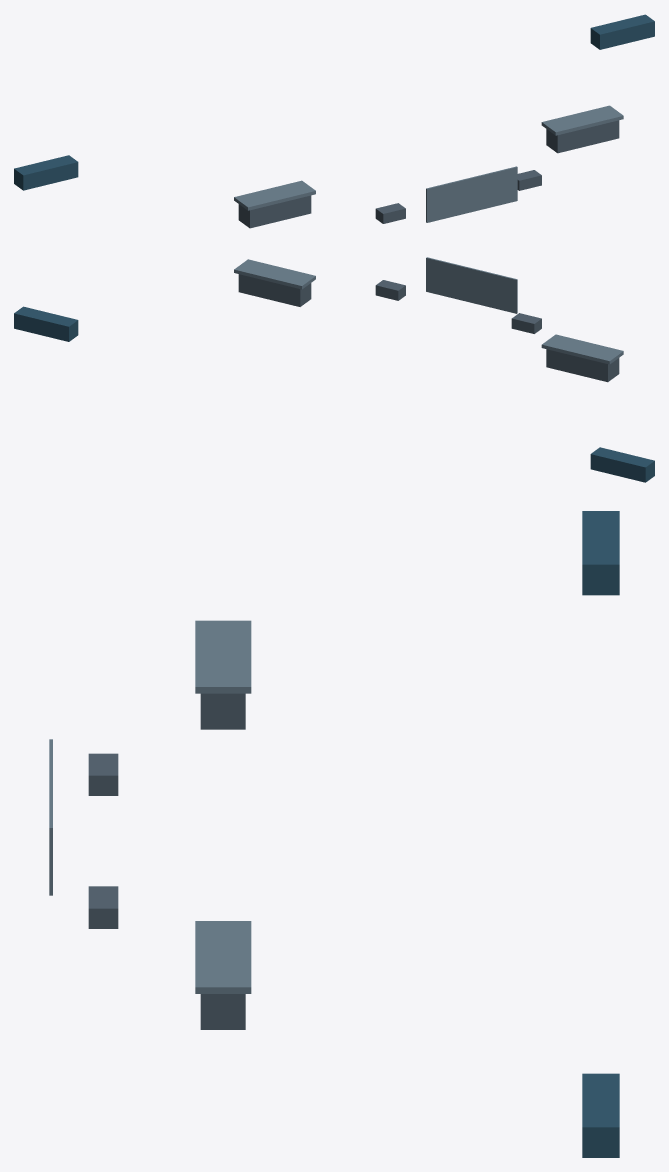
Rendered from stadium_modules-low.glb.
The picture shows the model from 3 angles, top to bottom: view 1: azimuth 30°, elevation 25°; view 2: azimuth 150°, elevation 25°; view 3: azimuth 270°, elevation 25°; orthographic projection. The views are drawn at different scales.
Parts seen in each view (by area): view 1: Backstop, Bullpen_-1, Bullpen_1, Dugout_-1, Dugout_1, DugoutRoof_1, DugoutRoof_-1, CameraWell_-1, CameraWell_1; view 2: Backstop, Bullpen_-1, Bullpen_1, Dugout_-1, Dugout_1, DugoutRoof_-1, DugoutRoof_1, CameraWell_-1, CameraWell_1; view 3: DugoutRoof_-1, DugoutRoof_1, Bullpen_-1, Bullpen_1, Dugout_-1, Dugout_1, CameraWell_1, CameraWell_-1.
Part boxes in pixels (bbox=[...]): Backstop: bbox=[426, 166, 517, 222]; Bullpen_-1: bbox=[14, 155, 78, 190]; Bullpen_1: bbox=[590, 14, 654, 49]; Dugout_-1: bbox=[238, 195, 311, 228]; Dugout_1: bbox=[546, 120, 619, 153]; DugoutRoof_1: bbox=[541, 105, 623, 135]; DugoutRoof_-1: bbox=[234, 180, 315, 210]; CameraWell_-1: bbox=[375, 203, 405, 223]; CameraWell_1: bbox=[517, 170, 541, 190]; Backstop: bbox=[426, 257, 517, 313]; Bullpen_-1: bbox=[590, 447, 654, 482]; Bullpen_1: bbox=[14, 306, 78, 341]; Dugout_-1: bbox=[546, 349, 619, 382]; Dugout_1: bbox=[238, 274, 311, 306]; DugoutRoof_-1: bbox=[541, 334, 623, 364]; DugoutRoof_1: bbox=[234, 259, 315, 289]; CameraWell_-1: bbox=[511, 313, 541, 333]; CameraWell_1: bbox=[375, 280, 405, 300]; DugoutRoof_-1: bbox=[195, 620, 251, 693]; DugoutRoof_1: bbox=[195, 921, 251, 993]; Bullpen_-1: bbox=[582, 511, 619, 595]; Bullpen_1: bbox=[582, 1073, 619, 1157]; Dugout_-1: bbox=[200, 693, 245, 729]; Dugout_1: bbox=[200, 994, 245, 1029]; CameraWell_1: bbox=[88, 886, 118, 928]; CameraWell_-1: bbox=[88, 753, 118, 795].
Bounding box in the file's own units: 390 × 20 × 152.
